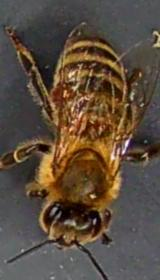varroa_mite: (44, 72, 75, 104)
